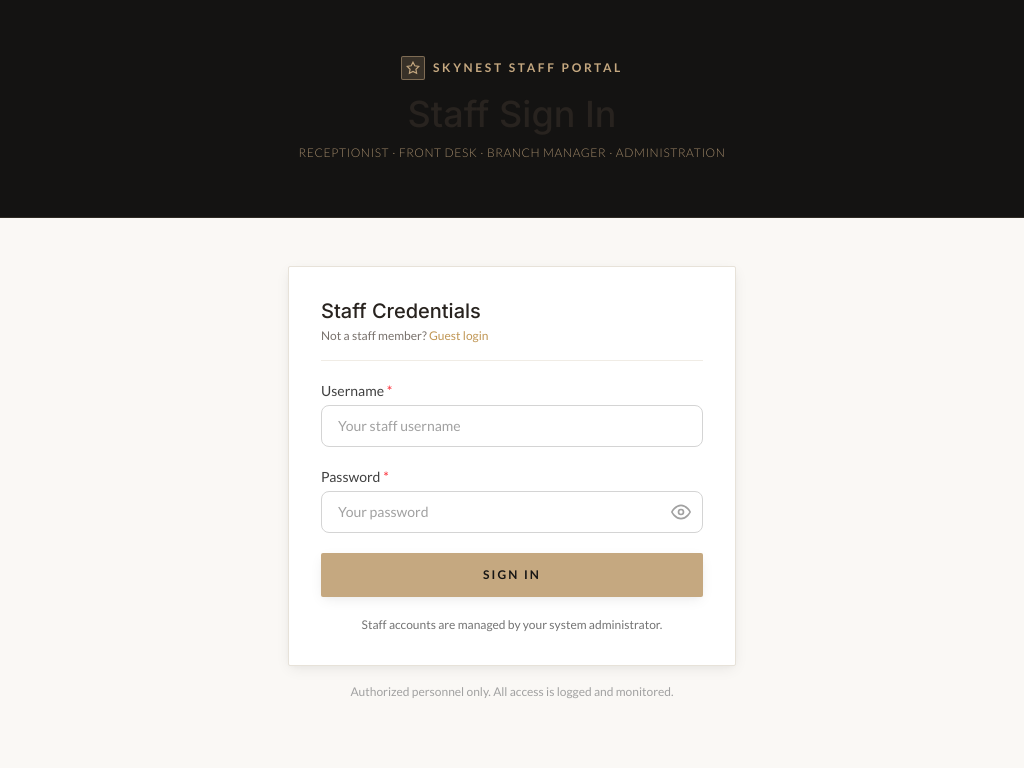
Scenario: StaffLoginPage - server error handling › shows inactive-account message on 403
Type "receptionist_01" into the field labelled "Username *".
click(512, 426); type("receptionist_01")  # box [321, 405, 703, 447]
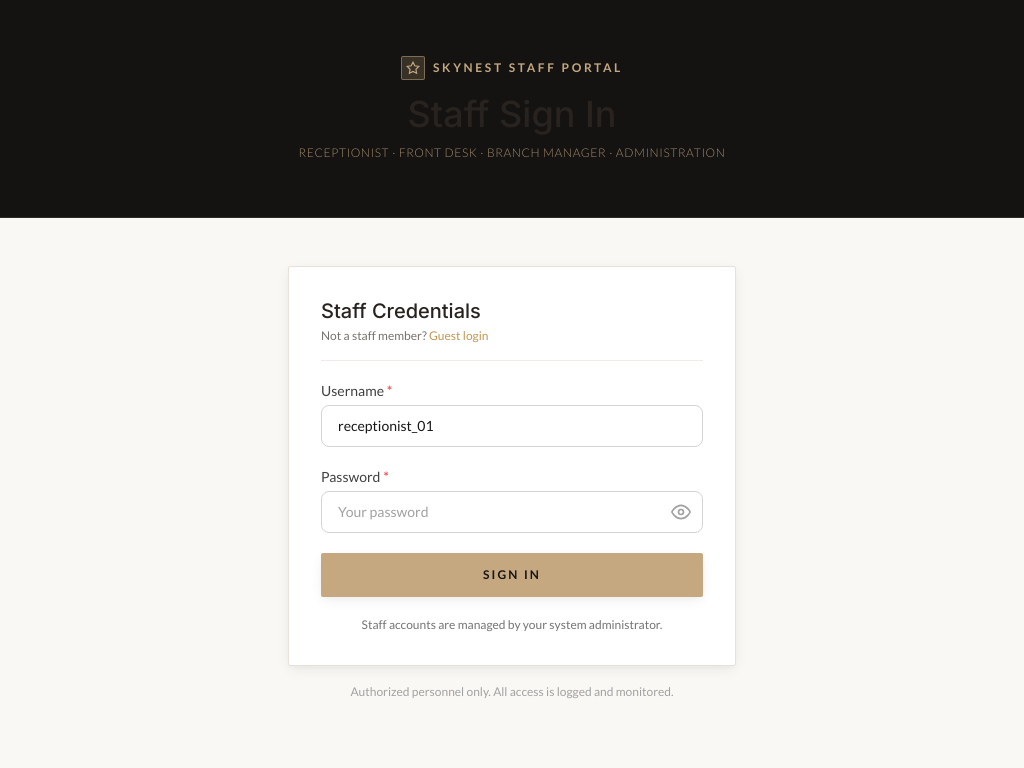
Type "staffpass123" into the password field labelled "Password *".
click(512, 512); type("staffpass123")  # box [321, 491, 703, 533]
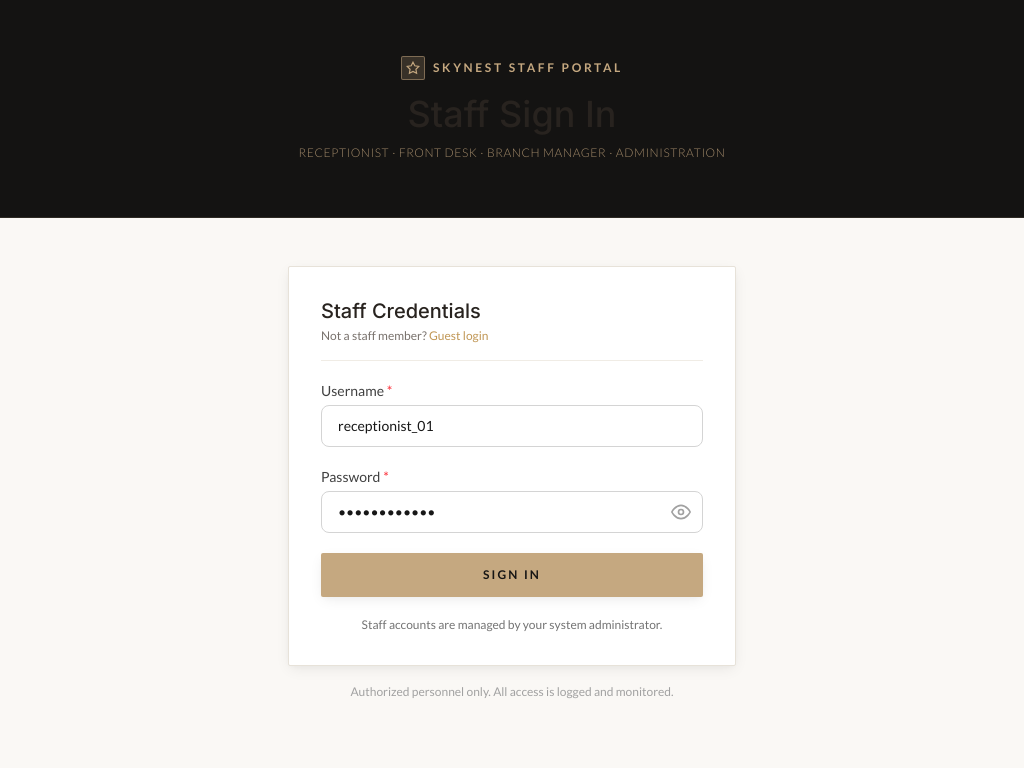
Click the button "Sign In".
click(512, 575)  # box [321, 553, 703, 597]
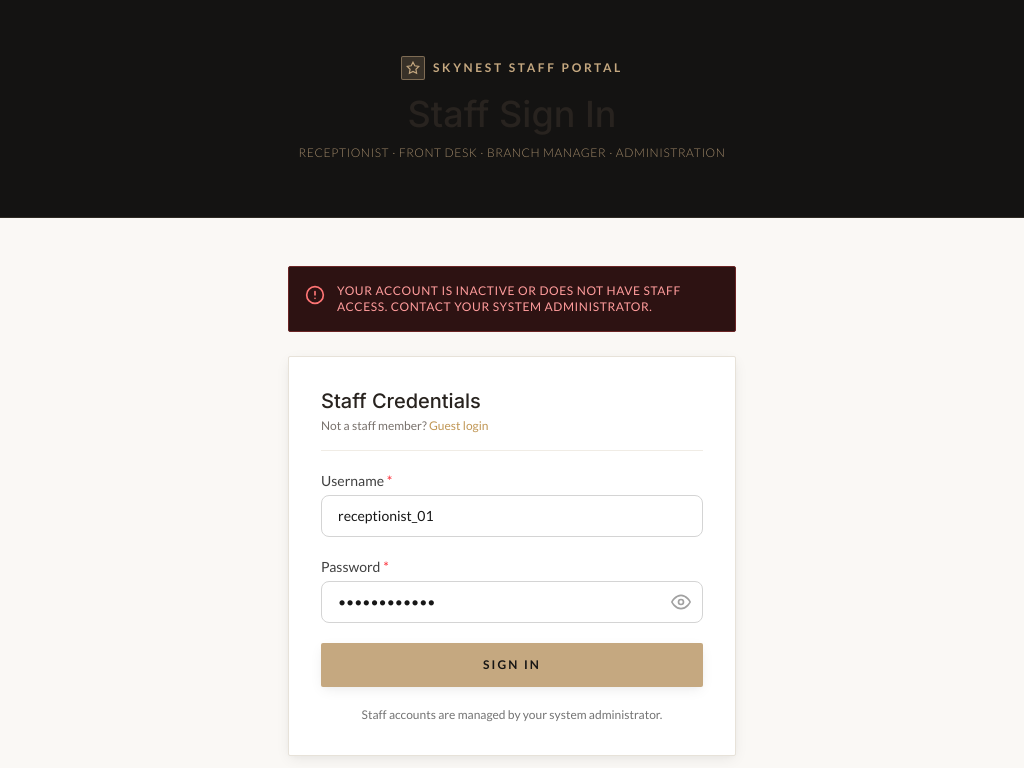
Check: the message is shown, box [288, 266, 736, 332]
Check: the text "inactive or does not have staff access" is shown, box [337, 283, 681, 314]
